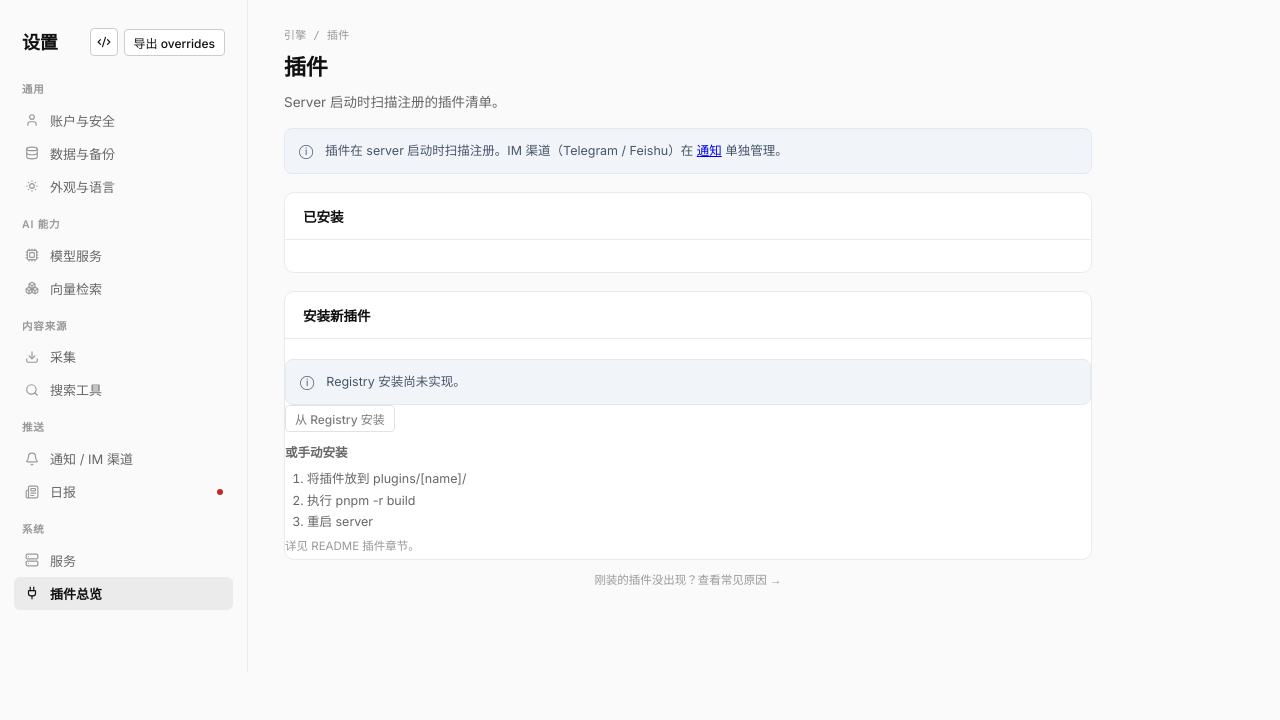
Test case: SettingsShell · auto-commit flow › auto-commit errors path surfaces a danger toast
Click the button "外观与语言" at point(124, 186), box [14, 170, 233, 203]
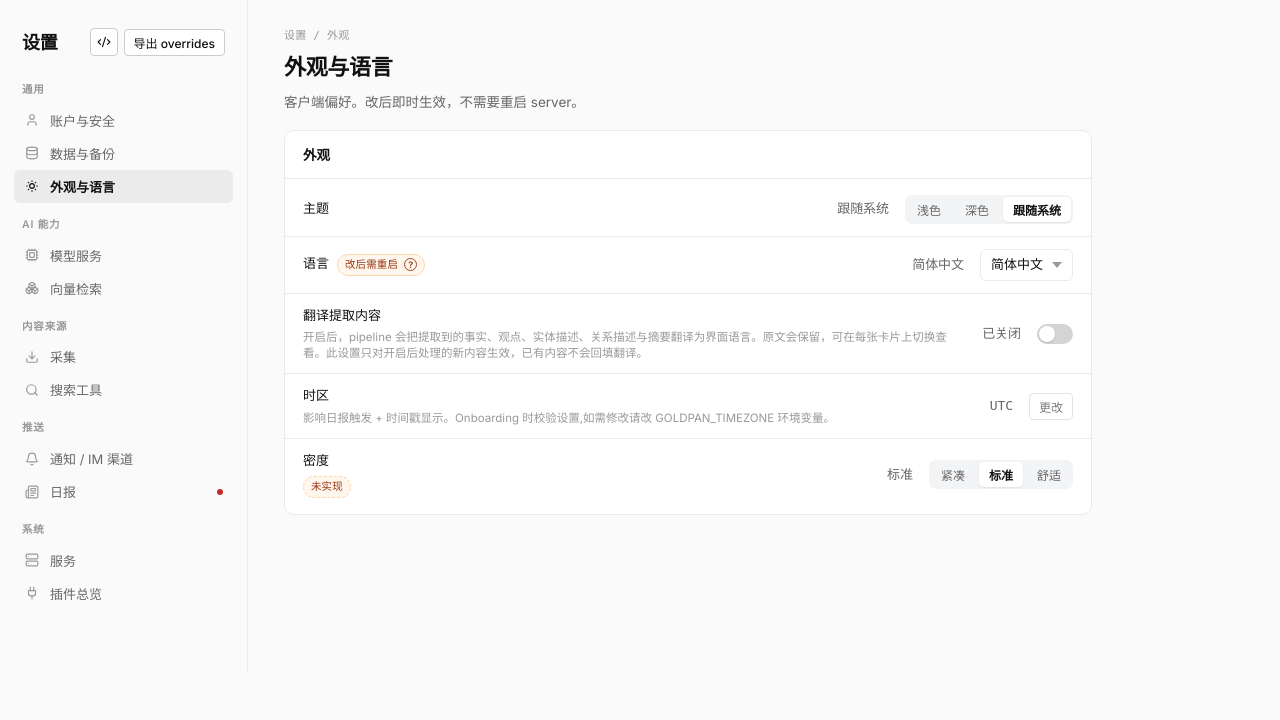
Select "English" in the dropdown at point(1026, 265), box [980, 249, 1073, 281]
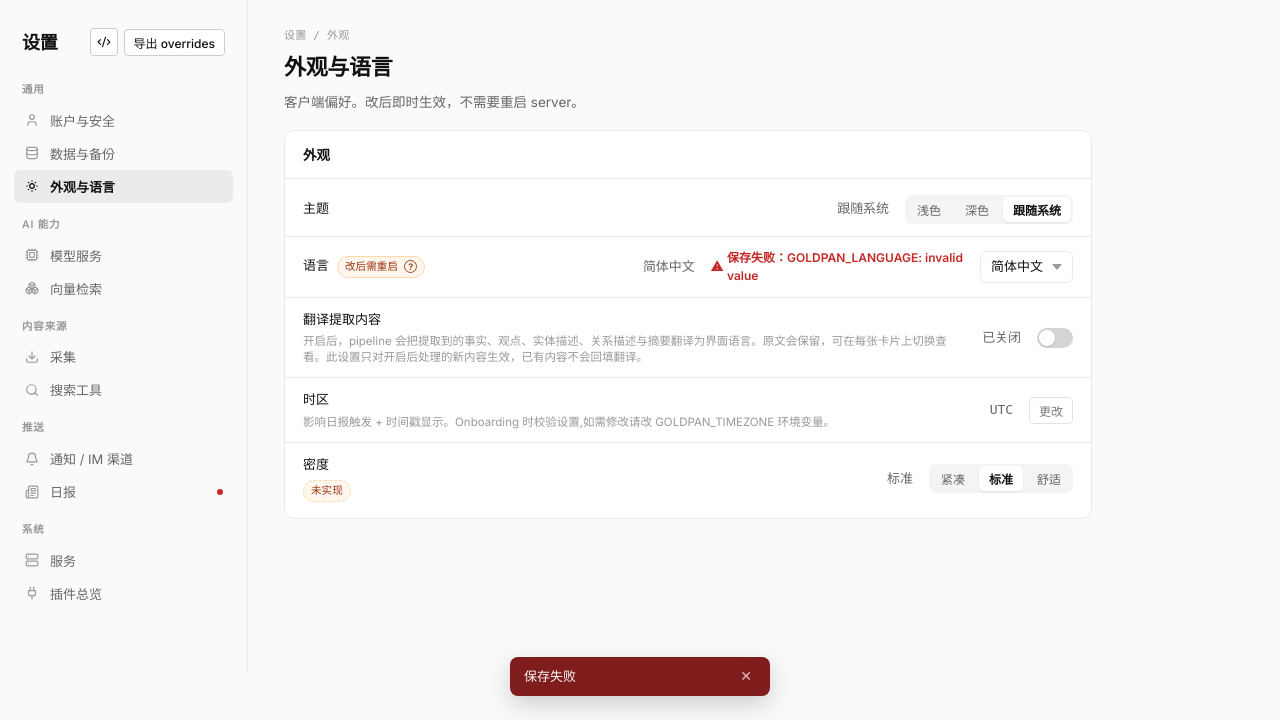
Expected: the text "⚠ 保存失败：GOLDPAN_LANGUAGE: invalid value" is shown, [711, 249, 964, 285]
